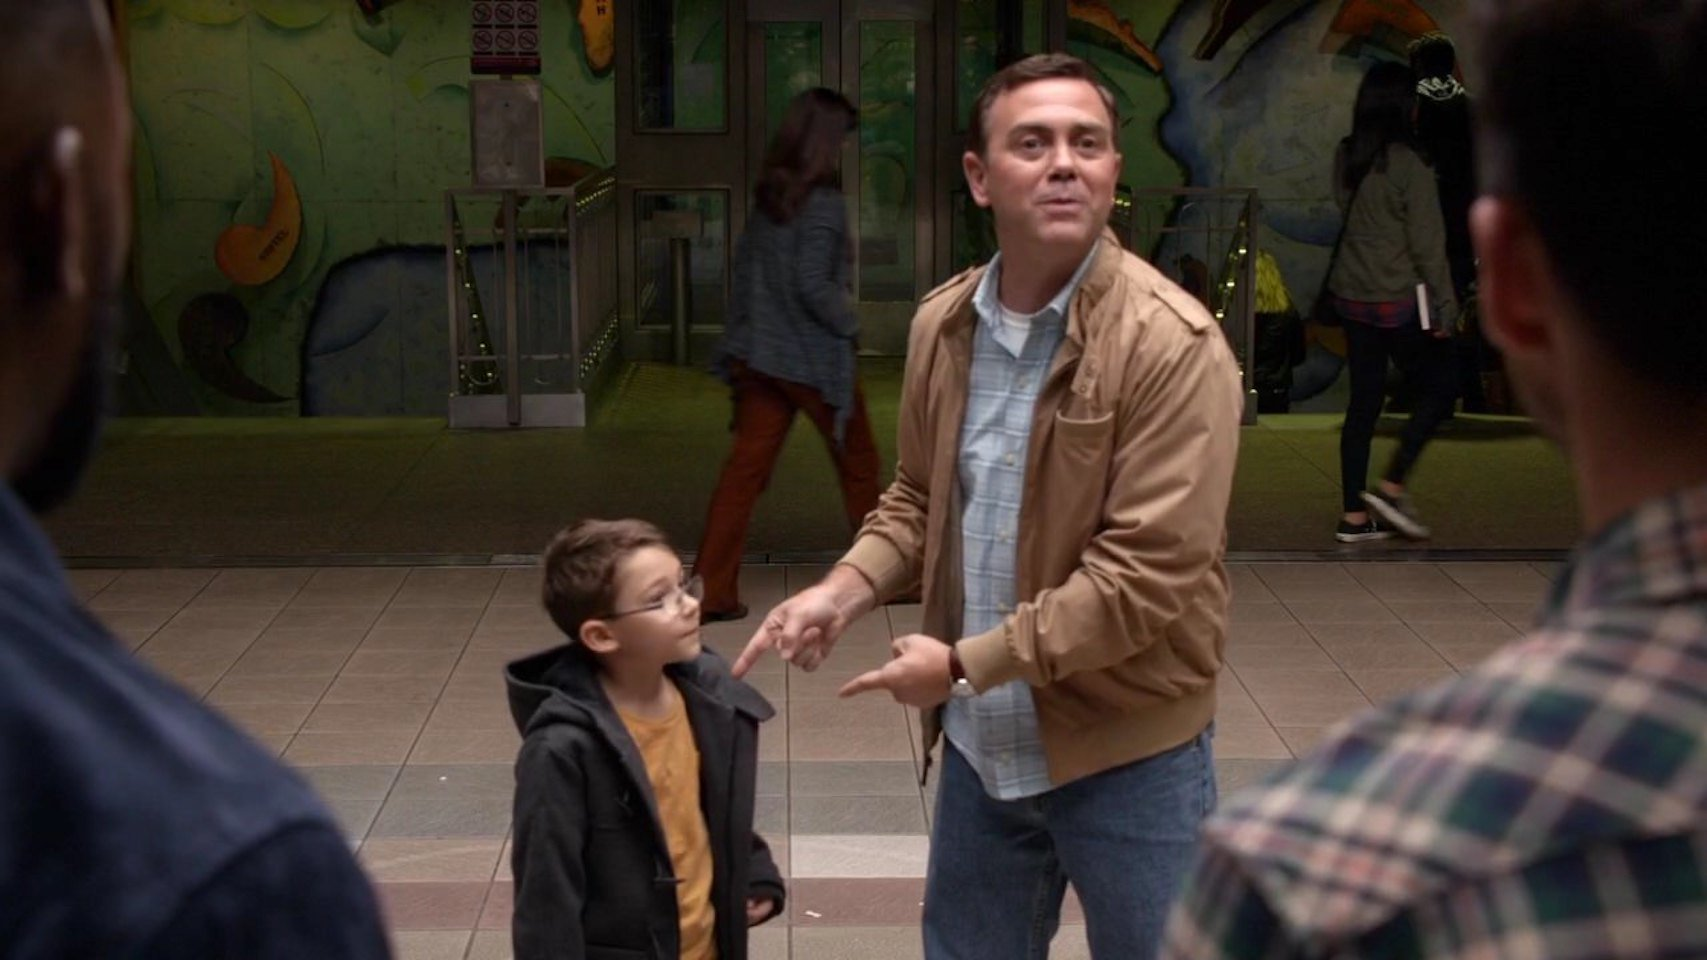person: (1265, 10, 1707, 946), (1, 3, 394, 956), (838, 56, 1236, 952), (483, 509, 794, 960), (696, 75, 894, 587), (1319, 58, 1472, 556)
